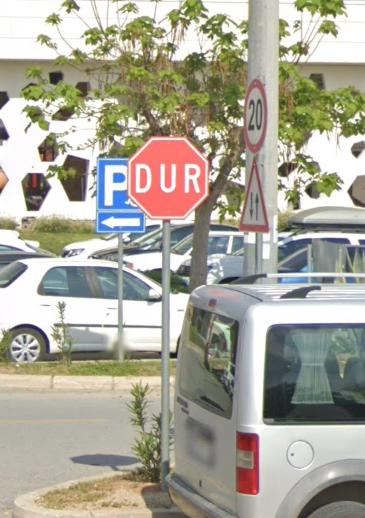stop: (130, 133, 209, 220)
